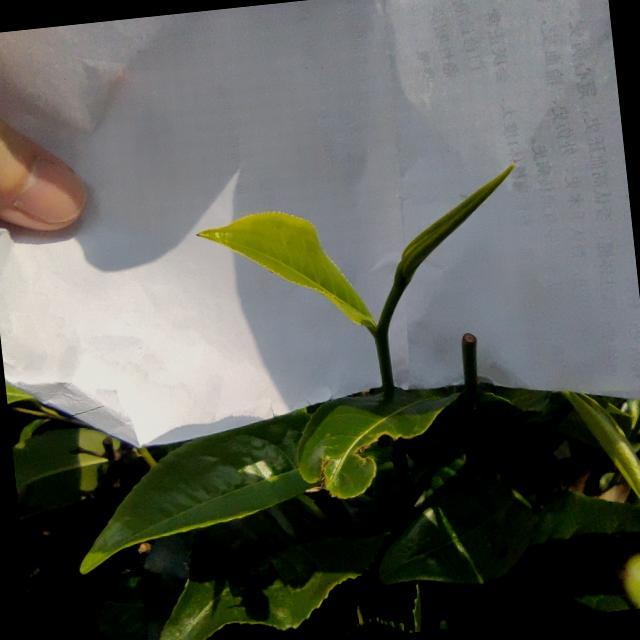Stem: (375, 334, 392, 374)
